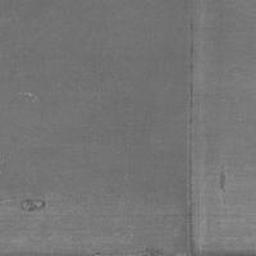Welding line: (187, 0, 197, 256)
